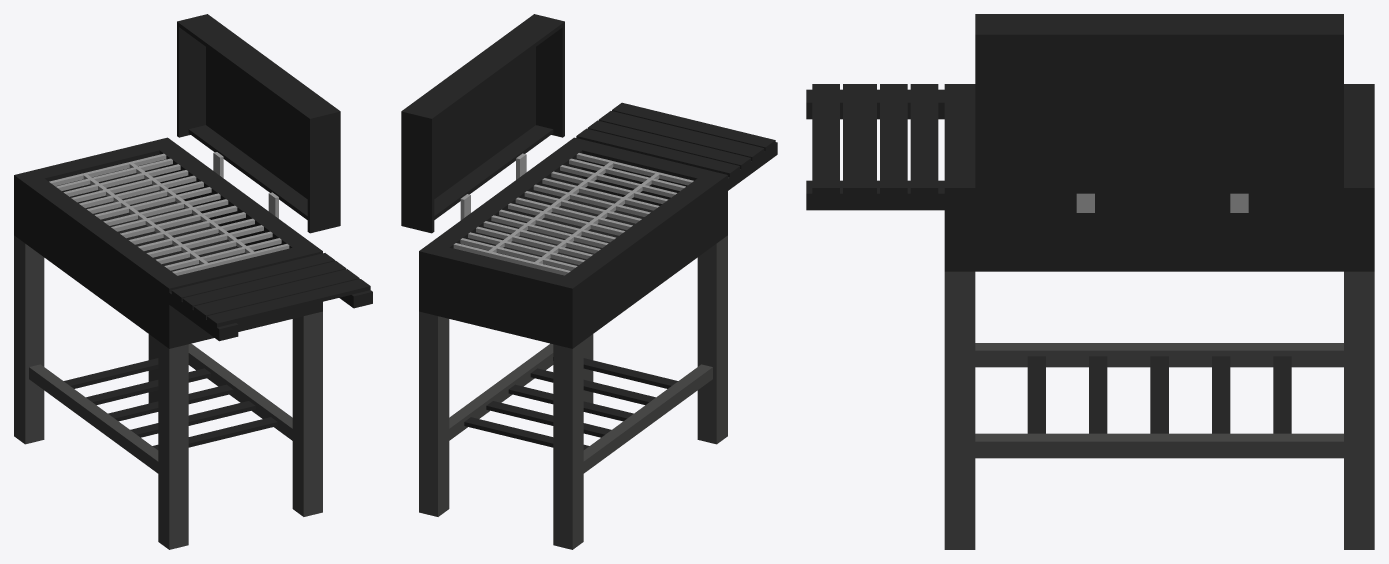
Rendered from bbq.gltf.
The picture shows the model from 3 angles, left to right: view 1: azimuth 30°, elevation 25°; view 2: azimuth 150°, elevation 25°; view 3: azimuth 270°, elevation 25°; orthographic projection. The views are drawn at different scales.
Parts seen in each view (by area): view 1: a07d2cc8-1a70-3822-1627-1d0018cdc1d5, 47d1fafb-aec7-03f4-2c60-cf85f298ee71, 5fe31d56-54e3-a03b-19fc-538dbe924a1e, 36aad3ce-4378-4707-fe3e-3acc8d1d9529, c6821360-6dc8-58ee-12a0-963a6e2ab60e, bb0c26aa-4b0e-3f1e-8ee7-e4f5c64b9bbe, 38eda8af-f5e8-2200-12e7-71305214c861, a86694f1-d3cf-49d4-15ce-9cc84438ba70, 0591b141-b301-24e3-3027-2104ca6c6236, 76af5676-23b2-84ea-674f-df8a5147fceb, a7ff3756-a13b-ea17-25b0-bece7dab987a, 2c7b5762-56aa-30f7-5851-b13d53f088c8 (+33 smaller); view 2: a07d2cc8-1a70-3822-1627-1d0018cdc1d5, a7ff3756-a13b-ea17-25b0-bece7dab987a, 47d1fafb-aec7-03f4-2c60-cf85f298ee71, 5fe31d56-54e3-a03b-19fc-538dbe924a1e, bb0c26aa-4b0e-3f1e-8ee7-e4f5c64b9bbe, 43fcac8a-3e33-9afe-d461-79c10095cc30, 36aad3ce-4378-4707-fe3e-3acc8d1d9529, 38eda8af-f5e8-2200-12e7-71305214c861, 0591b141-b301-24e3-3027-2104ca6c6236, 3a304039-9ebb-d5e0-f1e9-a43f622c6a3b, a86694f1-d3cf-49d4-15ce-9cc84438ba70, 2c7b5762-56aa-30f7-5851-b13d53f088c8 (+33 smaller); view 3: 47d1fafb-aec7-03f4-2c60-cf85f298ee71, 0591b141-b301-24e3-3027-2104ca6c6236, 5fe31d56-54e3-a03b-19fc-538dbe924a1e, 11b7c131-06da-6971-3fb2-bd74ecd6f26c, c6821360-6dc8-58ee-12a0-963a6e2ab60e, 43fcac8a-3e33-9afe-d461-79c10095cc30, 2c7b5762-56aa-30f7-5851-b13d53f088c8, 38eda8af-f5e8-2200-12e7-71305214c861, a86694f1-d3cf-49d4-15ce-9cc84438ba70, a7ff3756-a13b-ea17-25b0-bece7dab987a, 8a57cc21-c5b3-47c6-09d2-8770baaad216, 2208fb88-1e6a-863a-5632-79fa852587a2 (+11 smaller).
Boxes of the visible parts, x1,y1,x2,y2 form: a07d2cc8-1a70-3822-1627-1d0018cdc1d5: (14, 170, 187, 348); 47d1fafb-aec7-03f4-2c60-cf85f298ee71: (205, 14, 340, 226); 5fe31d56-54e3-a03b-19fc-538dbe924a1e: (14, 190, 322, 348); 36aad3ce-4378-4707-fe3e-3acc8d1d9529: (158, 341, 188, 549); c6821360-6dc8-58ee-12a0-963a6e2ab60e: (292, 311, 322, 516); bb0c26aa-4b0e-3f1e-8ee7-e4f5c64b9bbe: (14, 235, 44, 444); 38eda8af-f5e8-2200-12e7-71305214c861: (177, 14, 340, 122); a86694f1-d3cf-49d4-15ce-9cc84438ba70: (158, 243, 322, 348); 0591b141-b301-24e3-3027-2104ca6c6236: (159, 145, 311, 253); 76af5676-23b2-84ea-674f-df8a5147fceb: (307, 110, 340, 233); a7ff3756-a13b-ea17-25b0-bece7dab987a: (14, 137, 178, 242); 2c7b5762-56aa-30f7-5851-b13d53f088c8: (29, 364, 184, 483); a07d2cc8-1a70-3822-1627-1d0018cdc1d5: (553, 170, 727, 348); a7ff3756-a13b-ea17-25b0-bece7dab987a: (419, 243, 583, 348); 47d1fafb-aec7-03f4-2c60-cf85f298ee71: (401, 14, 537, 226); 5fe31d56-54e3-a03b-19fc-538dbe924a1e: (419, 192, 727, 348); bb0c26aa-4b0e-3f1e-8ee7-e4f5c64b9bbe: (553, 341, 583, 549); 43fcac8a-3e33-9afe-d461-79c10095cc30: (419, 311, 449, 516); 36aad3ce-4378-4707-fe3e-3acc8d1d9529: (697, 235, 727, 444); 38eda8af-f5e8-2200-12e7-71305214c861: (402, 14, 564, 122); 0591b141-b301-24e3-3027-2104ca6c6236: (430, 145, 582, 257); 3a304039-9ebb-d5e0-f1e9-a43f622c6a3b: (401, 111, 434, 233); a86694f1-d3cf-49d4-15ce-9cc84438ba70: (563, 137, 727, 242); 2c7b5762-56aa-30f7-5851-b13d53f088c8: (557, 364, 712, 483); 47d1fafb-aec7-03f4-2c60-cf85f298ee71: (975, 32, 1343, 193); 0591b141-b301-24e3-3027-2104ca6c6236: (975, 193, 1343, 271); 5fe31d56-54e3-a03b-19fc-538dbe924a1e: (944, 243, 1374, 271); 11b7c131-06da-6971-3fb2-bd74ecd6f26c: (975, 433, 1343, 458); c6821360-6dc8-58ee-12a0-963a6e2ab60e: (944, 271, 975, 549); 43fcac8a-3e33-9afe-d461-79c10095cc30: (1344, 271, 1374, 549); 2c7b5762-56aa-30f7-5851-b13d53f088c8: (975, 343, 1343, 367); 38eda8af-f5e8-2200-12e7-71305214c861: (975, 14, 1343, 40); a86694f1-d3cf-49d4-15ce-9cc84438ba70: (944, 84, 975, 271); a7ff3756-a13b-ea17-25b0-bece7dab987a: (1344, 84, 1374, 271); 8a57cc21-c5b3-47c6-09d2-8770baaad216: (910, 84, 938, 193); 2208fb88-1e6a-863a-5632-79fa852587a2: (812, 84, 839, 193).
Bounding box in the file's own units: 0.5938 × 1.2 × 1.16.
Materials: 3 (3 with a texture image).
